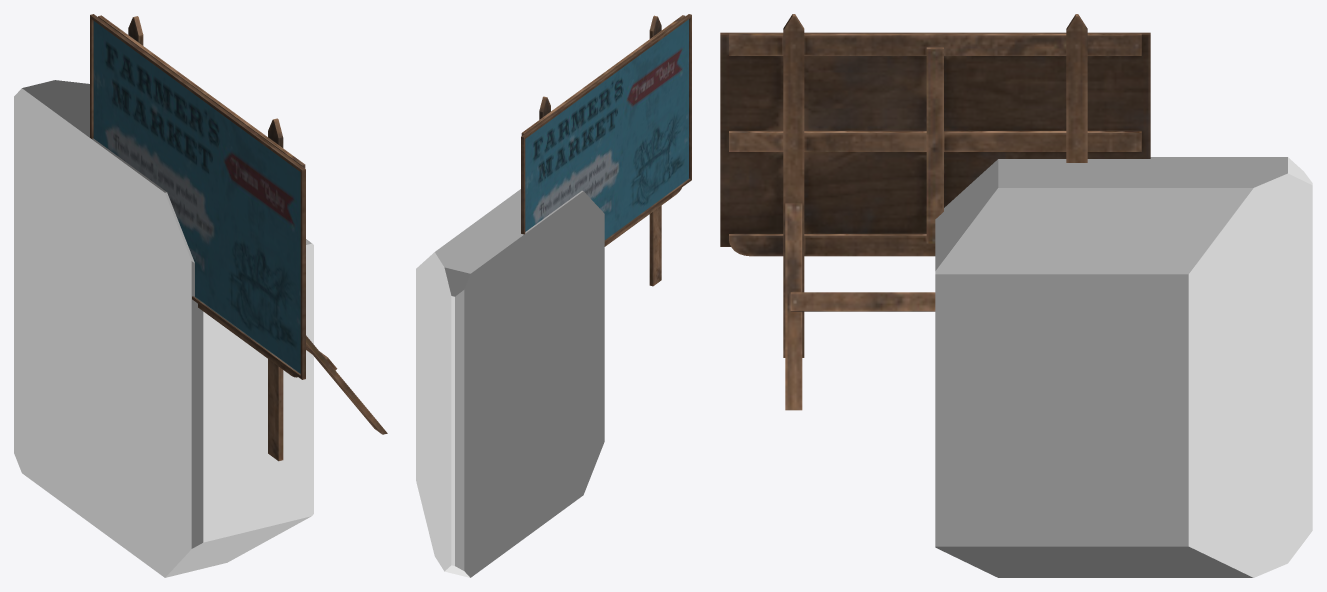
Rendered from SM_Billboard_12.fbx.
3 renders of one model, left to right at view 1: azimuth 30°, elevation 25°; view 2: azimuth 150°, elevation 25°; view 3: azimuth 270°, elevation 25°, orthographic. The views are drawn at different scales.
Visible parts, largest first — view 1: SM_Billboard_12_ConvexHulls, SM_Billboard_12_LOD0; view 2: SM_Billboard_12_ConvexHulls, SM_Billboard_12_LOD0; view 3: SM_Billboard_12_ConvexHulls, SM_Billboard_12_LOD0.
Part boxes in pixels (x1,y1,x2,y2): SM_Billboard_12_ConvexHulls: (14,80,313,577); SM_Billboard_12_LOD0: (90,14,387,461); SM_Billboard_12_ConvexHulls: (416,189,604,577); SM_Billboard_12_LOD0: (521,14,691,286); SM_Billboard_12_ConvexHulls: (935,157,1312,577); SM_Billboard_12_LOD0: (720,14,1150,410).
Bounding box in the file's own units: 110 × 471 × 471.
